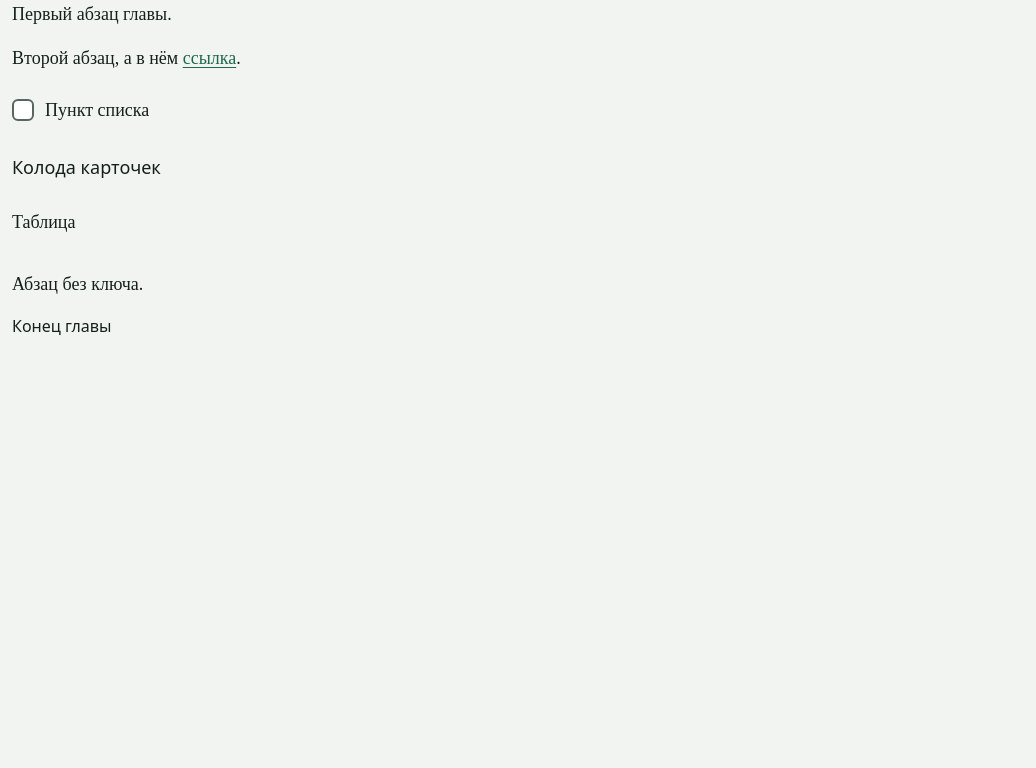
Scenario: BlockActions: слушатели нажатия не на document › нажатие на поле экрана (вне root, внутри <main>) закрывает панель без document
The image size is (1036, 768).
Click the text "Первый абзац главы.": [92, 14] box [12,4,172,24]
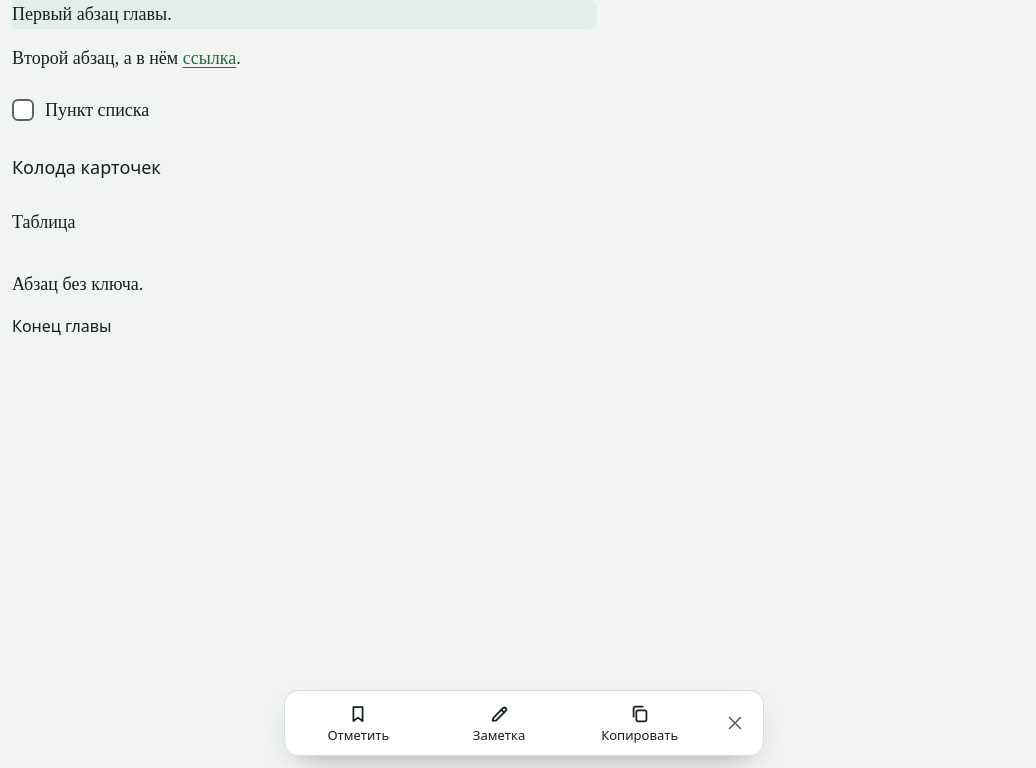
Now the element with class "bact" is shown, box [284,690,764,756]
Click the text "Конец главы": [62, 326] box [12,315,111,337]
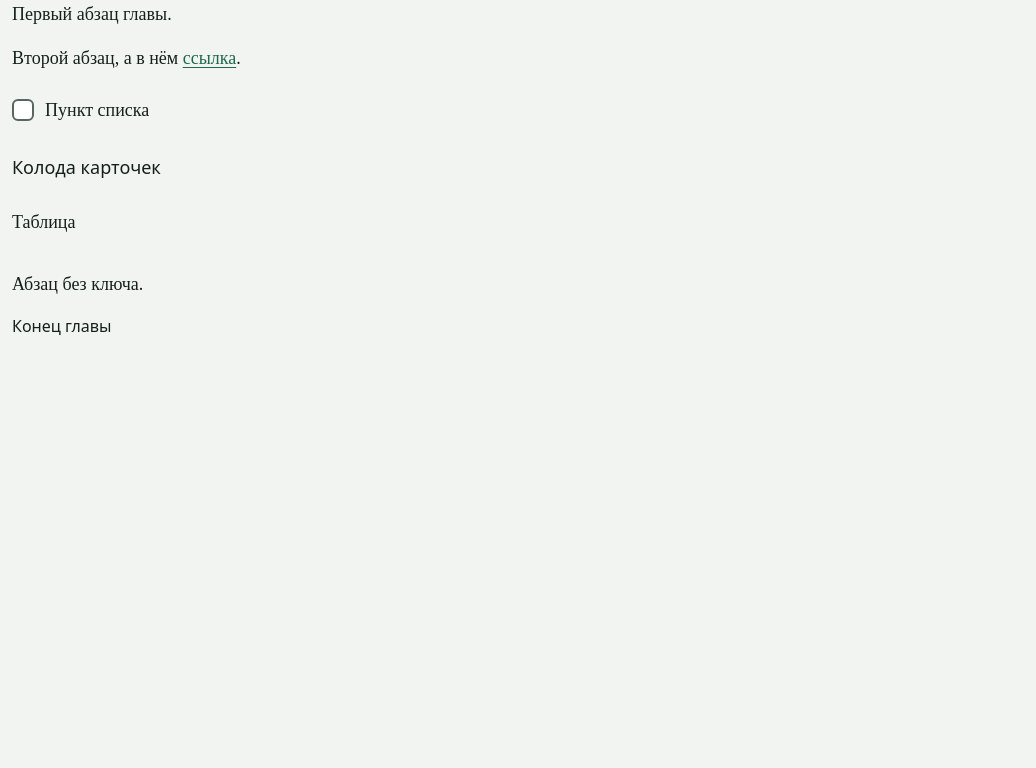
Now the element with class "bact" is gone
